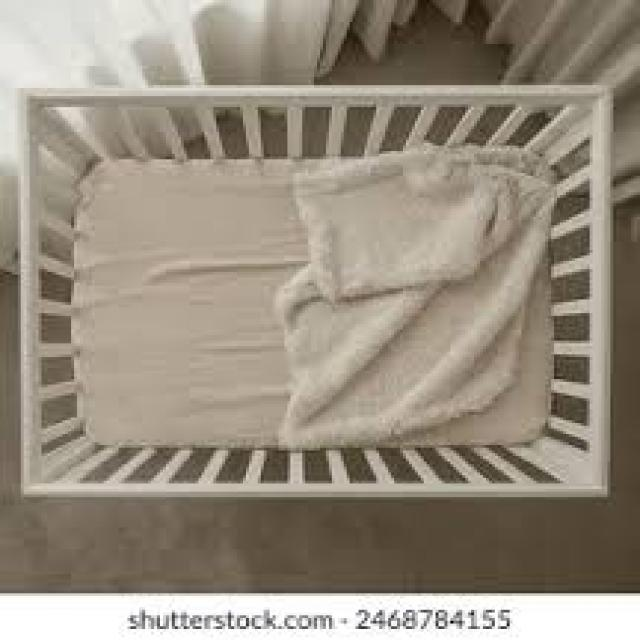crib: (15, 80, 613, 500)
